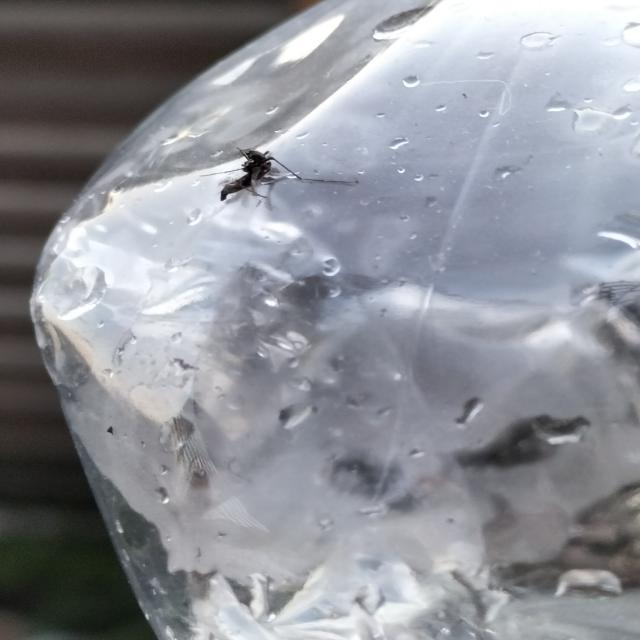albopictus: (195, 139, 360, 213)
